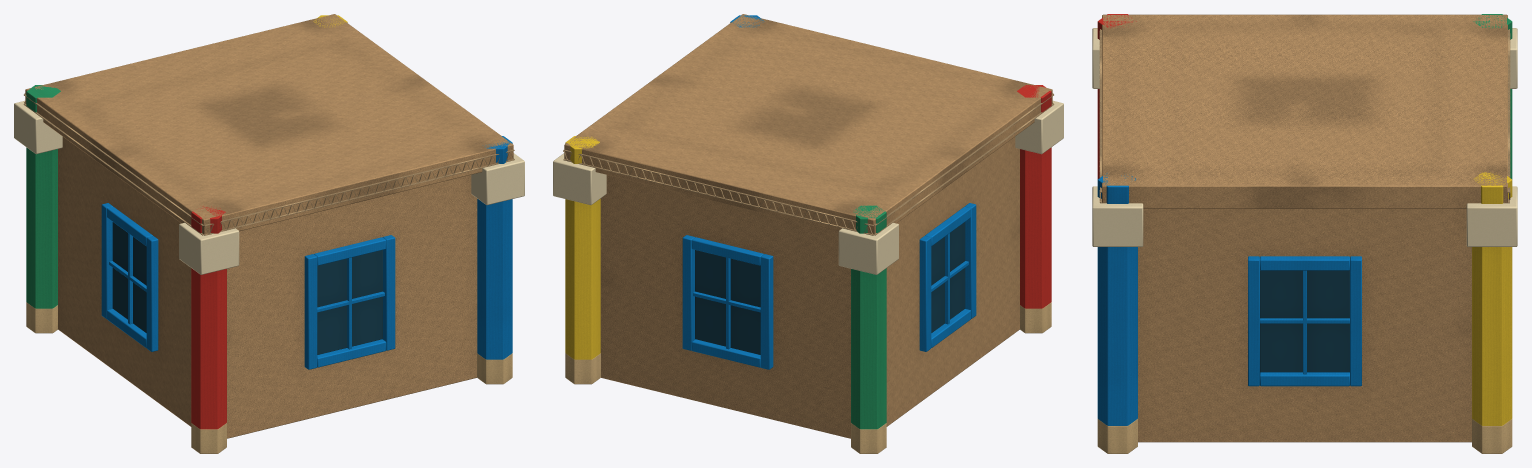
Rendered from 5-pencil-supported-box-3-1.fbx.
3 renders of one model, left to right at view 1: azimuth 30°, elevation 25°; view 2: azimuth 150°, elevation 25°; view 3: azimuth 270°, elevation 25°, orthographic. The views are drawn at different scales.
Parts seen in each view (by area): view 1: pencil-supported-box-3-1; view 2: pencil-supported-box-3-1; view 3: pencil-supported-box-3-1.
Boxes of the visible parts, bbox=[...] form: pencil-supported-box-3-1: bbox=[14, 14, 524, 453]; pencil-supported-box-3-1: bbox=[553, 14, 1063, 453]; pencil-supported-box-3-1: bbox=[1092, 14, 1517, 453].
Size of the model in its own units: 6700 by 4650 by 6700.
Materials: 1 (1 with a texture image).
